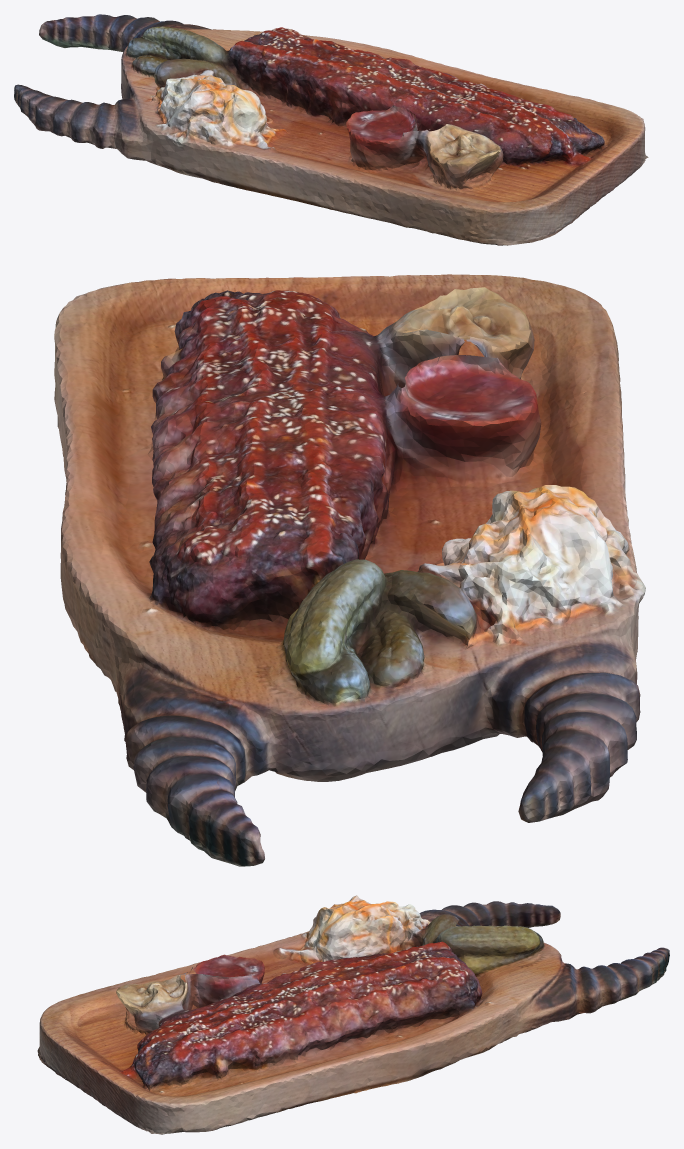
The model's file is dandeh.glb.
The picture shows the model from 3 angles, top to bottom: view 1: azimuth 30°, elevation 25°; view 2: azimuth 150°, elevation 25°; view 3: azimuth 270°, elevation 25°; orthographic projection. The views are drawn at different scales.
Parts seen in each view (by area): view 1: object 1; view 2: object 1; view 3: object 1.
Part boxes in pixels (x1,y1,x2,y2): object 1: [14, 14, 648, 245]; object 1: [54, 274, 645, 866]; object 1: [37, 895, 669, 1134].
Size of the model in its own units: 0.4327 by 0.0676 by 0.5447.
3 materials, 1 textured.
